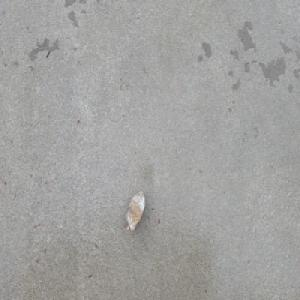Rock: (125, 189, 145, 234)
